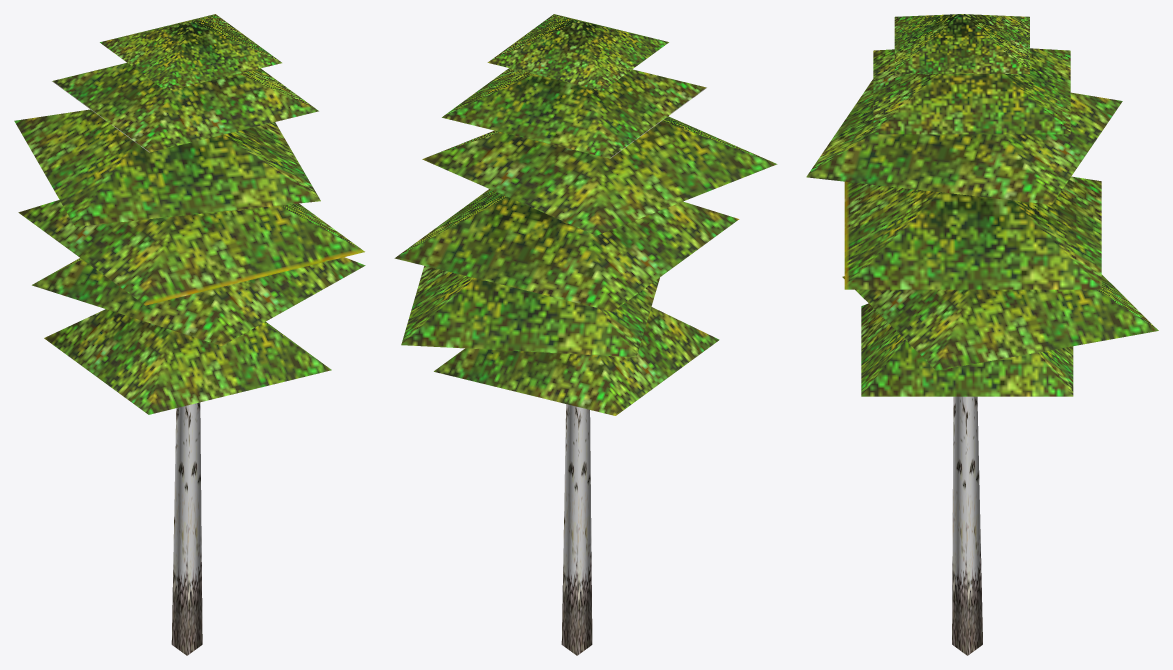
File: idle.glb
3 views of the same model, side by side, from view 1: azimuth 30°, elevation 25°; view 2: azimuth 150°, elevation 25°; view 3: azimuth 270°, elevation 25° (orthographic).
Visible parts, largest first — view 1: MeshRoot; view 2: MeshRoot; view 3: MeshRoot.
Boxes of the visible parts, x1,y1,x2,y2 form: MeshRoot: (14, 14, 365, 655); MeshRoot: (394, 14, 777, 655); MeshRoot: (806, 14, 1158, 655).
Bounding box in the file's own units: 4.7 × 8.81 × 4.44.
Materials: 1 (1 with a texture image).
